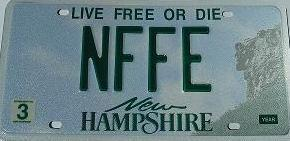placa de veiculo: (10, 0, 275, 137)
